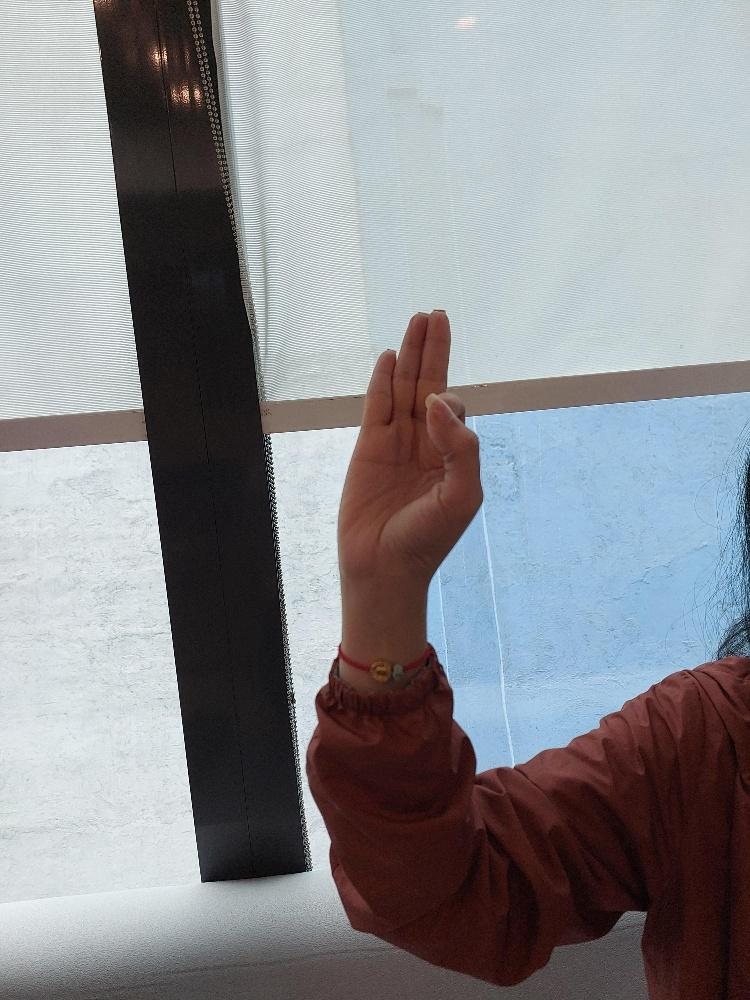f: (331, 304, 486, 581)
